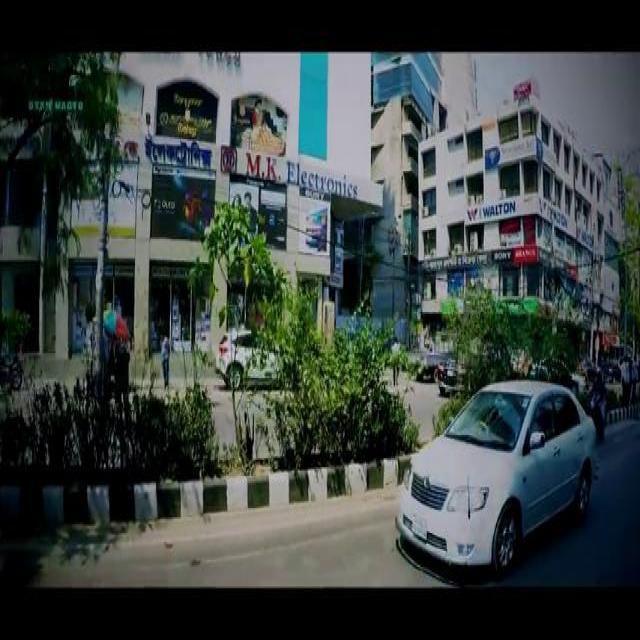car: (392, 377, 596, 559), (436, 345, 478, 391)
motorbike: (588, 388, 604, 434)
suv: (217, 327, 295, 381)
